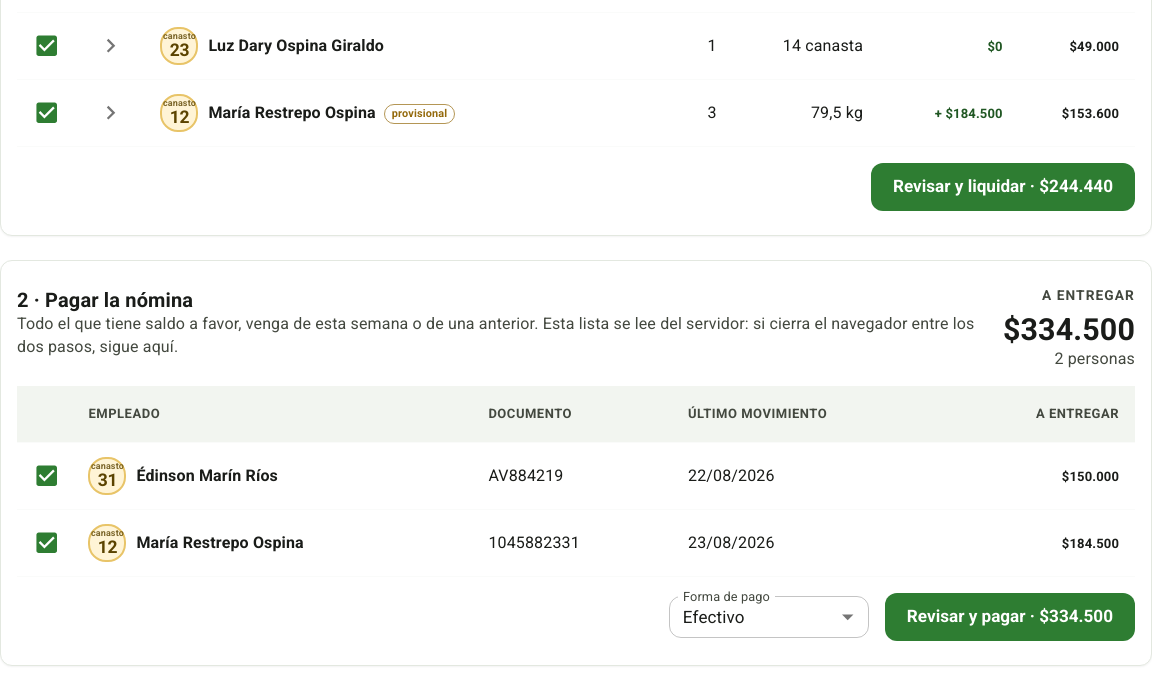
paying the crew › says so when the sheet cannot be printed
(page scrolled)
Expected: the heading "2 · Pagar la nómina" is shown, [17,288,193,312]
Step 1. Click the button "Revisar y pagar · $334.500" → point(1010, 617), box [885,593,1135,641]
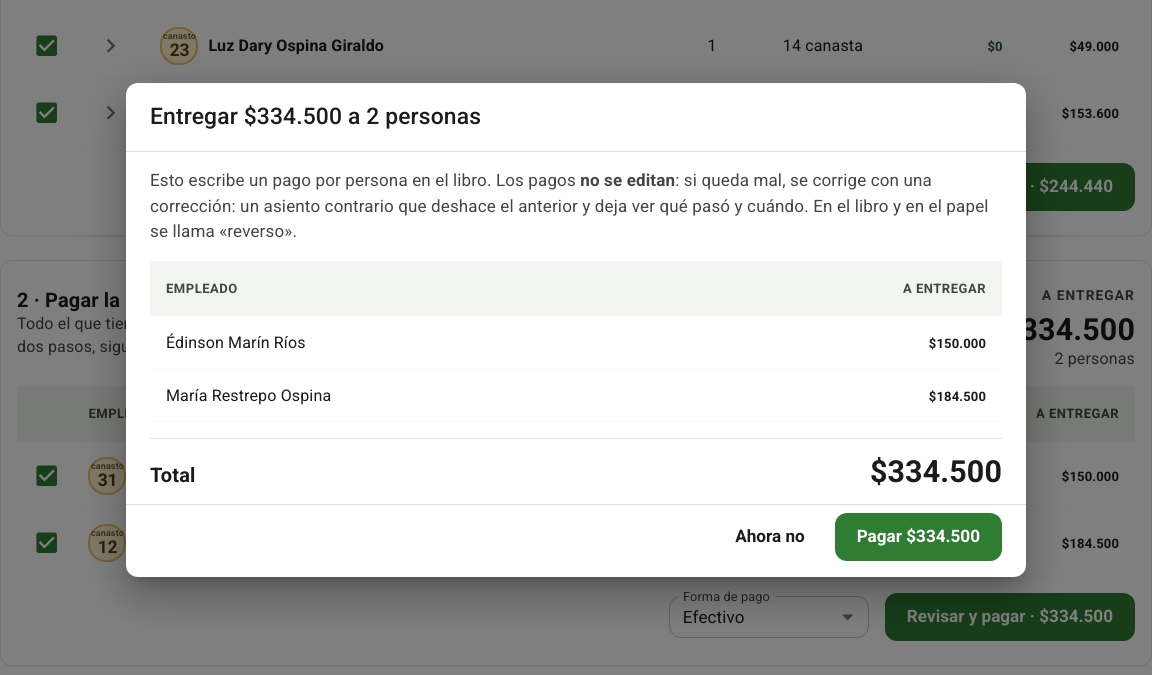
Result: the dialog is shown at [126,83,1026,577]
Step 2. Click the button "Pagar $334.500" → point(918, 537), box [835,513,1002,561]
(page scrolled)
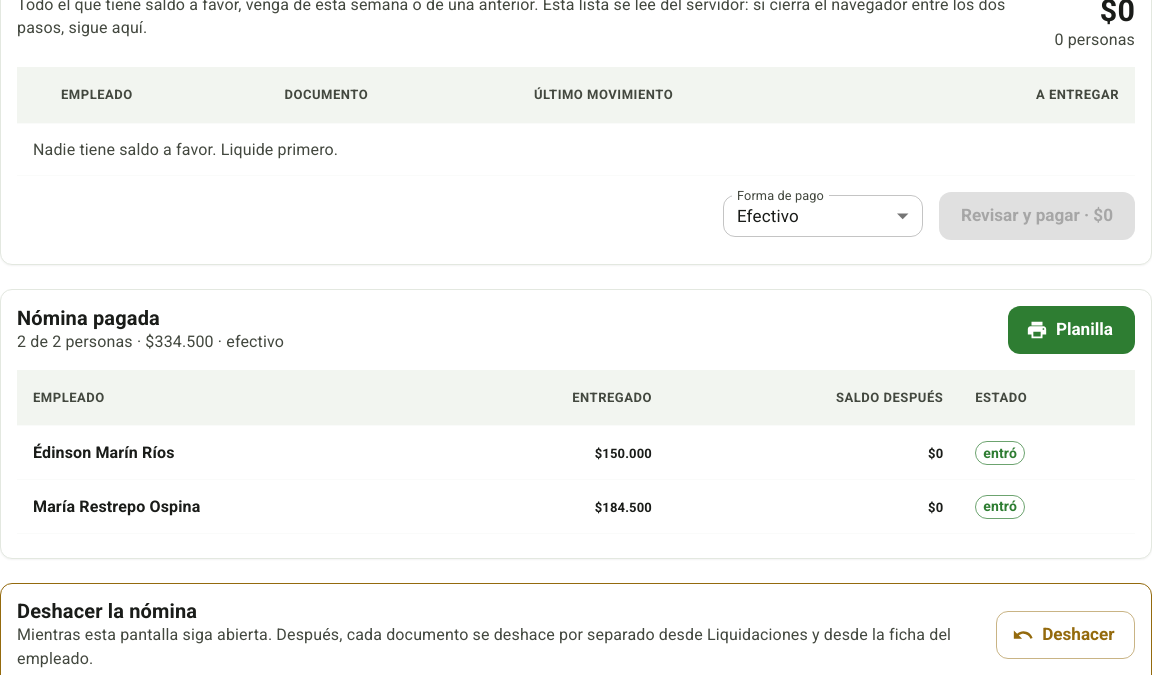
Result: the heading "Nómina pagada" is shown at [17,306,160,330]
Result: the dialog is gone
Step 3. Click the button "Planilla" → point(1071, 330), box [1008,306,1135,354]
(page scrolled)
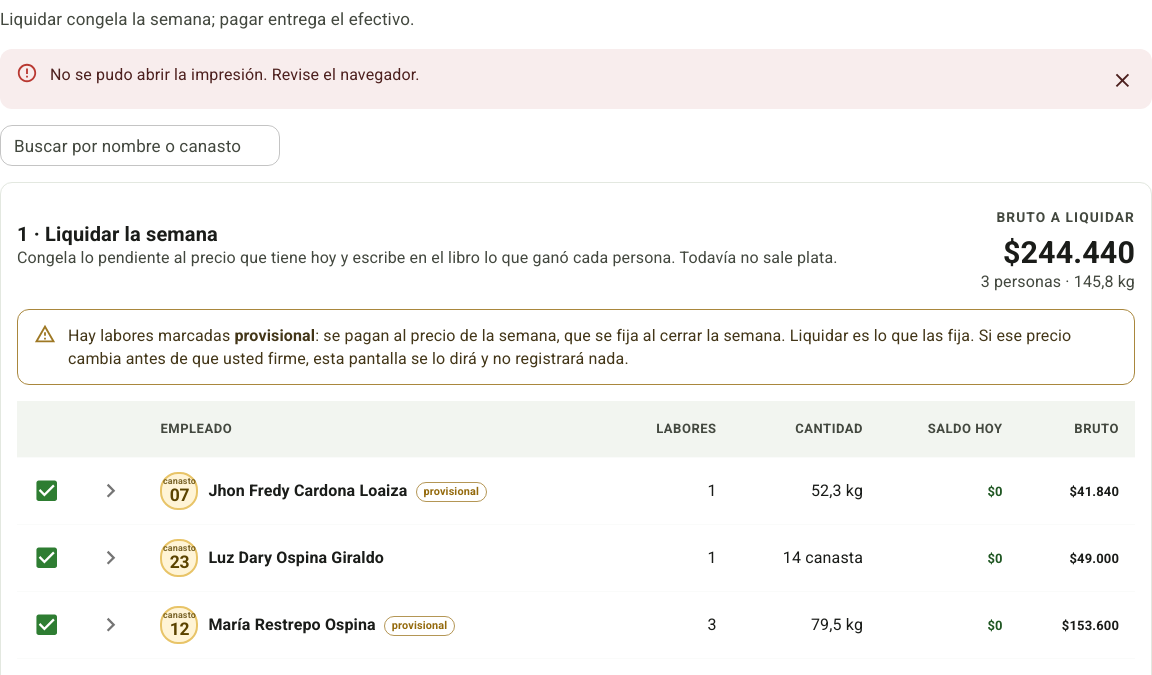
Step 4. Click the button named "Cerrar" → point(1122, 81), box [1100,59,1144,103]
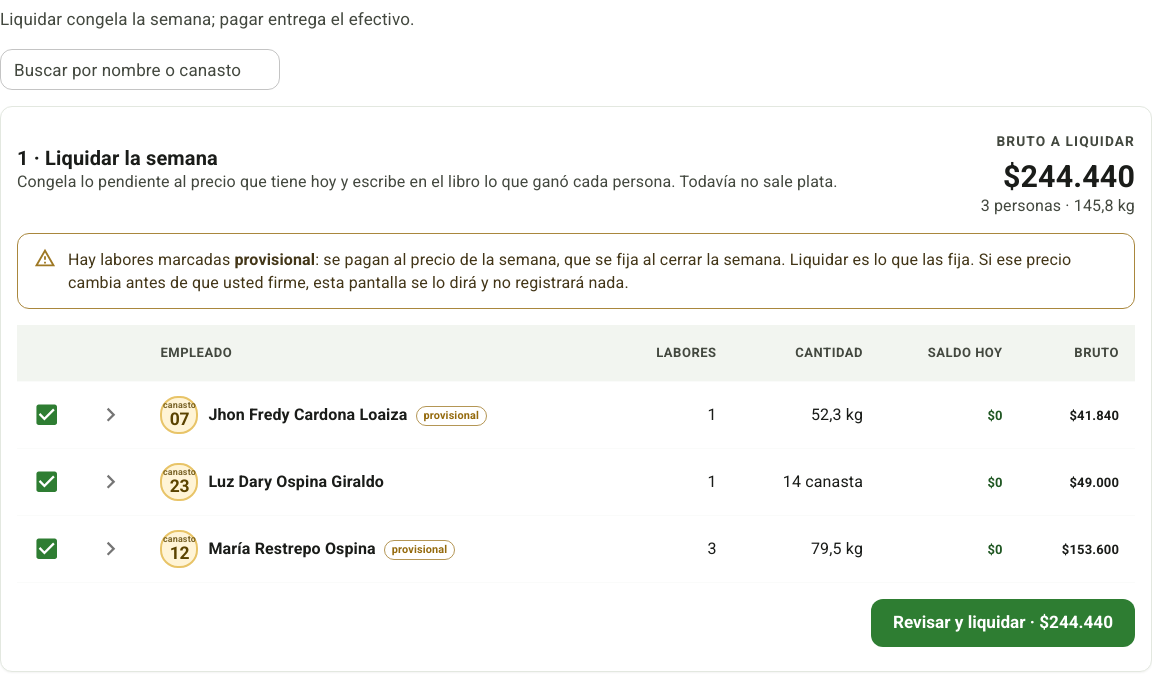
Result: the text "No se pudo abrir la impresión" is gone
